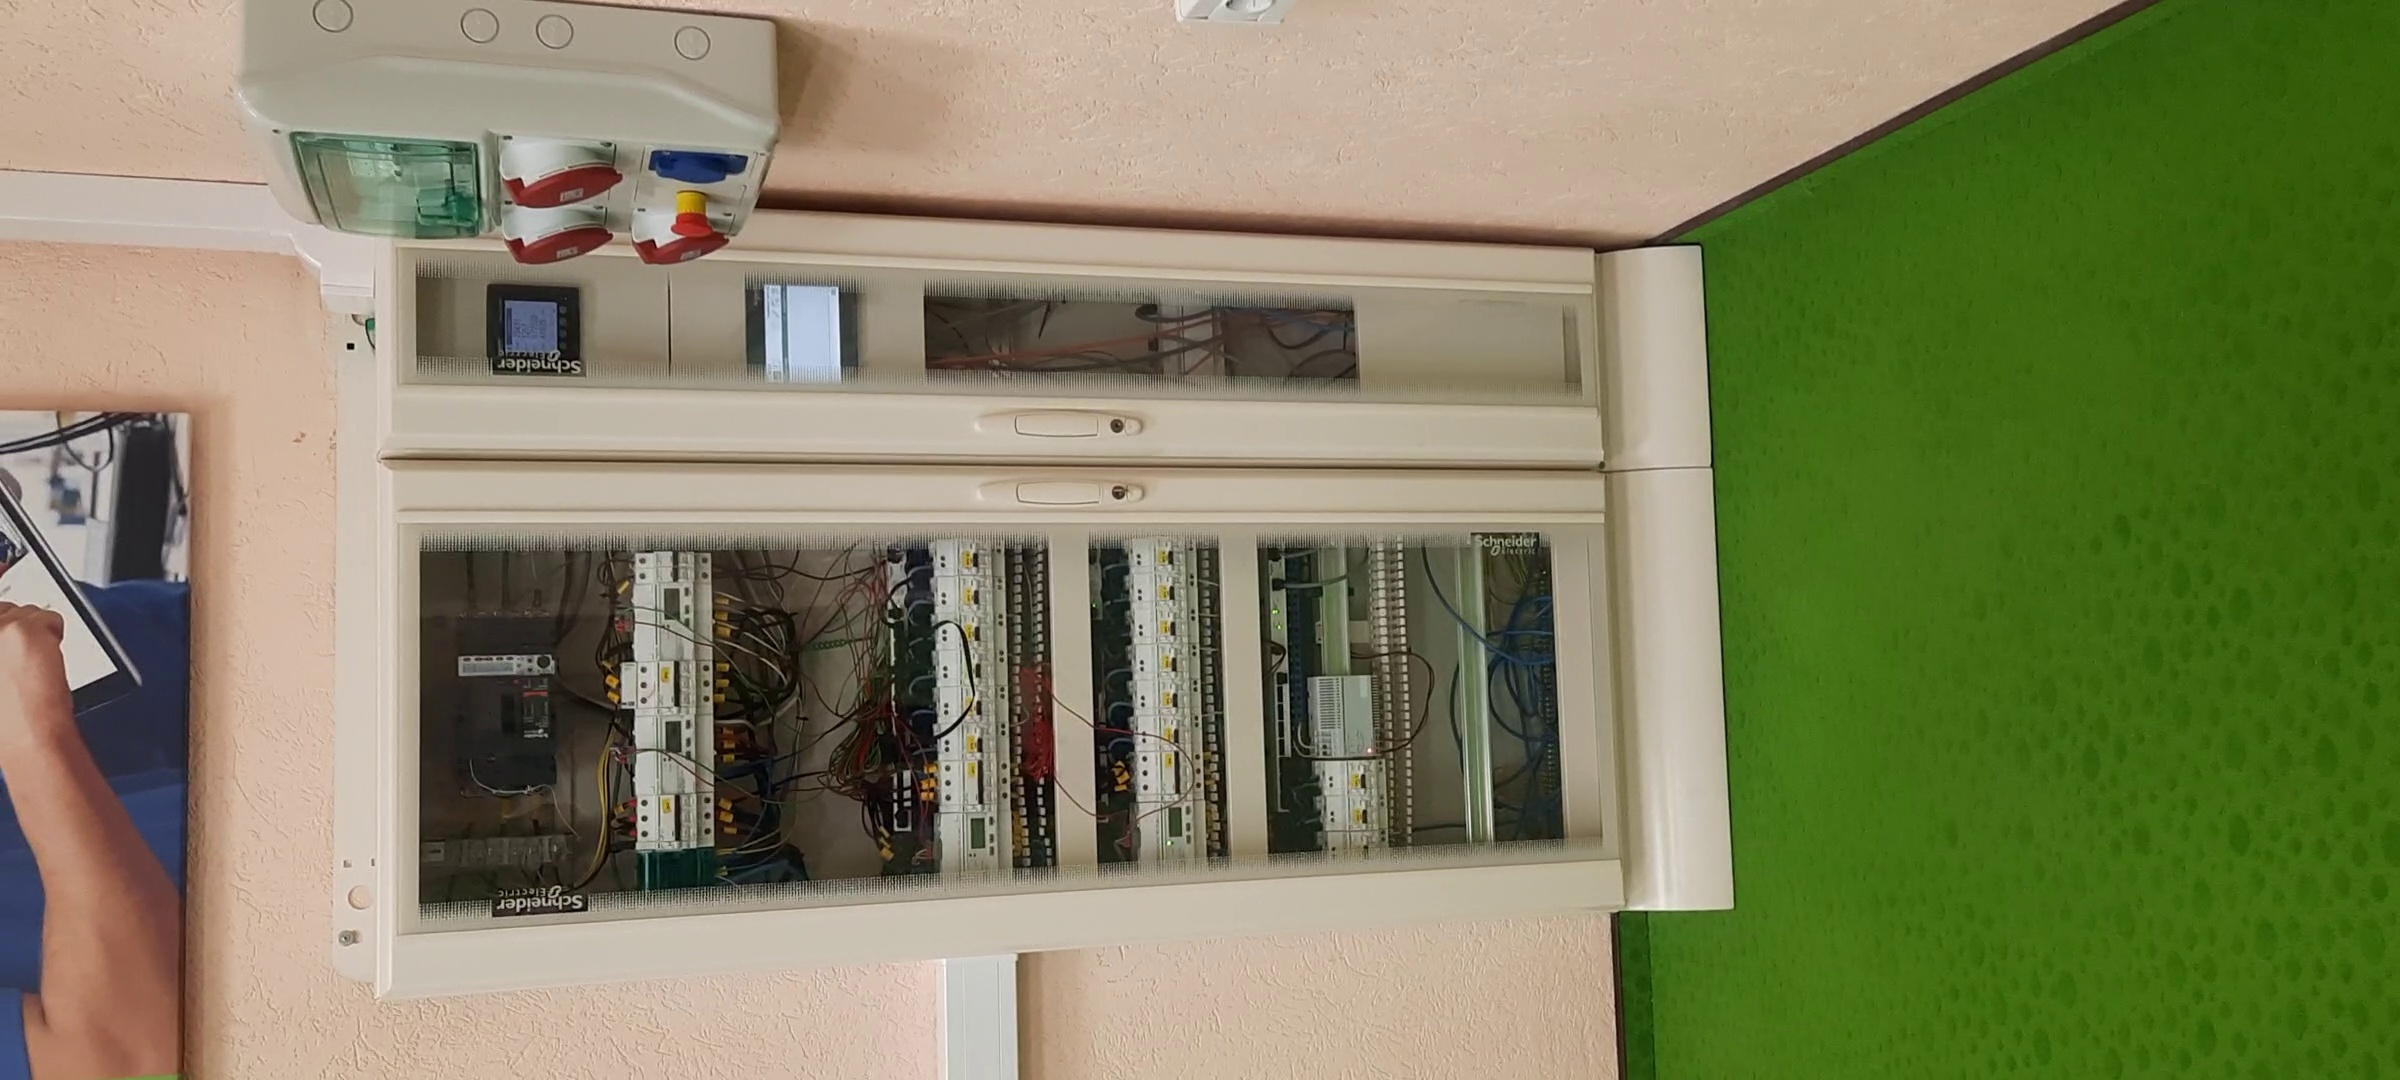stand1: (309, 229, 1757, 1000)
